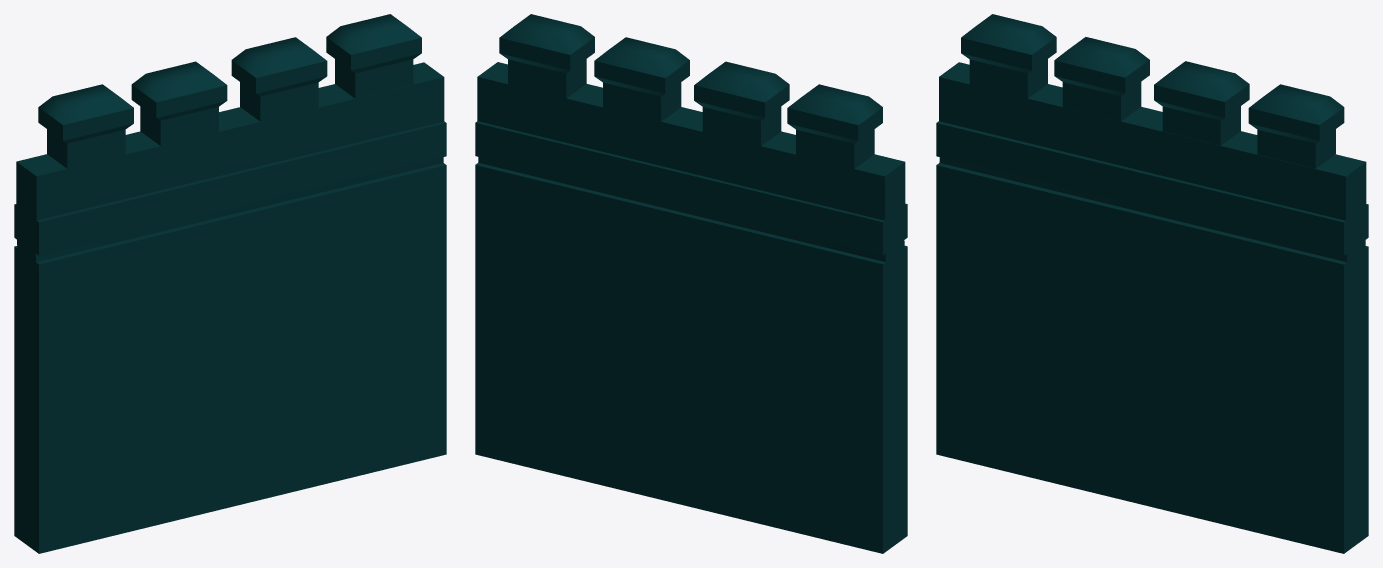
File: CastleWallProtection.FBX
3 renders of one model, left to right at view 1: azimuth 30°, elevation 25°; view 2: azimuth 150°, elevation 25°; view 3: azimuth 330°, elevation 25°, orthographic.
Visible parts, largest first — view 1: CastleWallProtection; view 2: CastleWallProtection; view 3: CastleWallProtection.
Boxes of the visible parts, left/top/right/bottom form: CastleWallProtection: left=14, top=14, right=446, bottom=553; CastleWallProtection: left=475, top=14, right=907, bottom=553; CastleWallProtection: left=936, top=14, right=1368, bottom=553.
Bounding box in the file's own units: 27.47 × 27.92 × 2.91.
